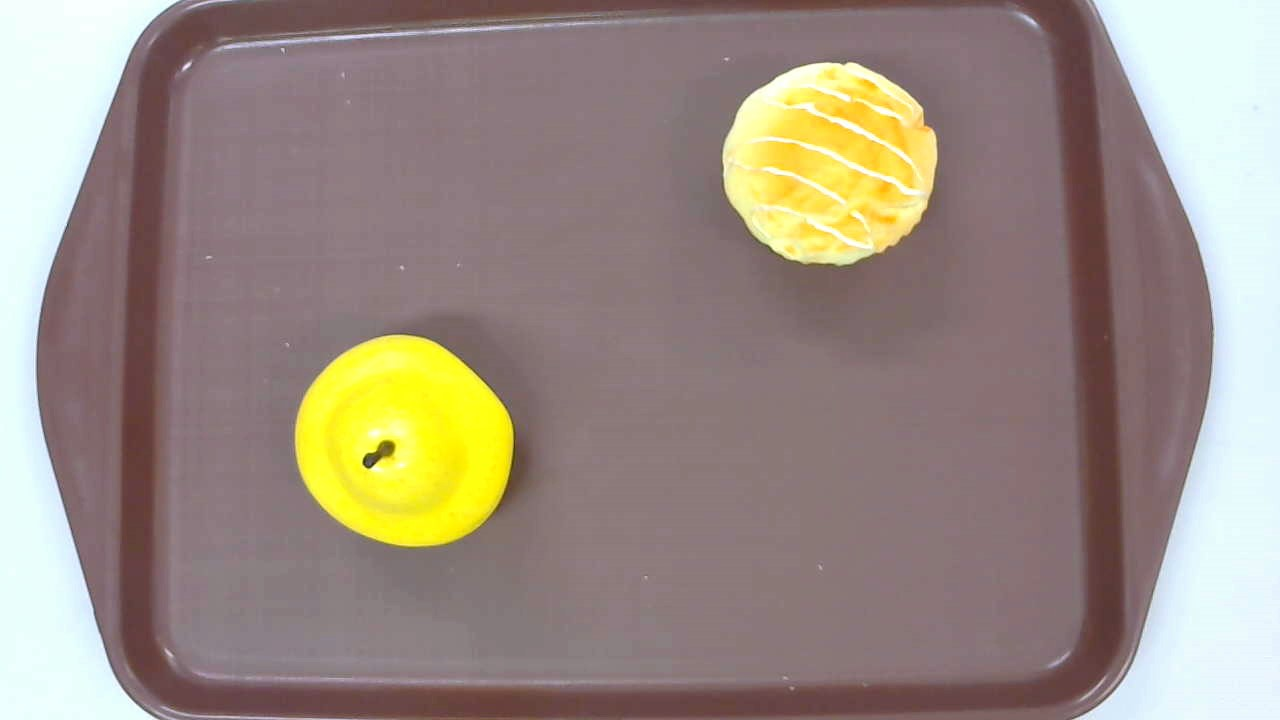cupcake: (720, 60, 938, 269)
yellow pear: (293, 335, 514, 547)
